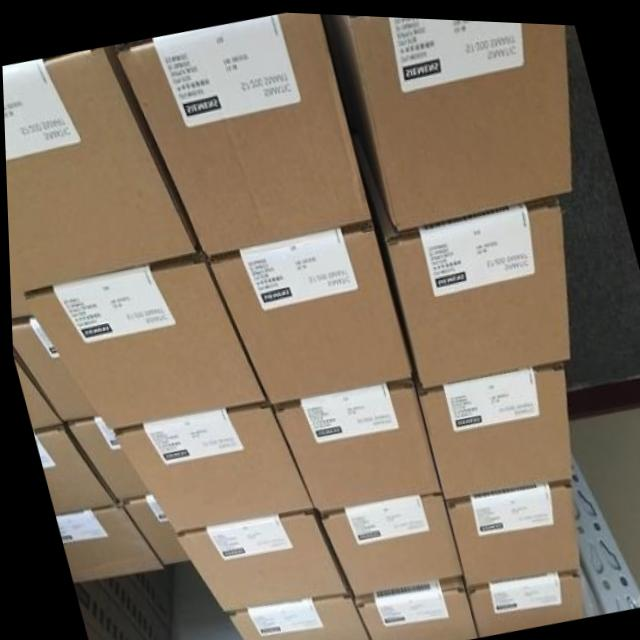box: (115, 10, 370, 255), (322, 11, 572, 227), (2, 46, 197, 293), (366, 172, 568, 383), (20, 253, 264, 427), (203, 218, 412, 401), (110, 401, 310, 533), (267, 378, 439, 508), (414, 357, 569, 495), (170, 507, 344, 611), (314, 490, 460, 593), (441, 479, 576, 582), (9, 316, 95, 422), (51, 504, 160, 584), (349, 576, 474, 640), (463, 566, 581, 633), (30, 424, 115, 515), (63, 415, 146, 501), (223, 595, 367, 640), (116, 496, 186, 564), (10, 355, 60, 430)
